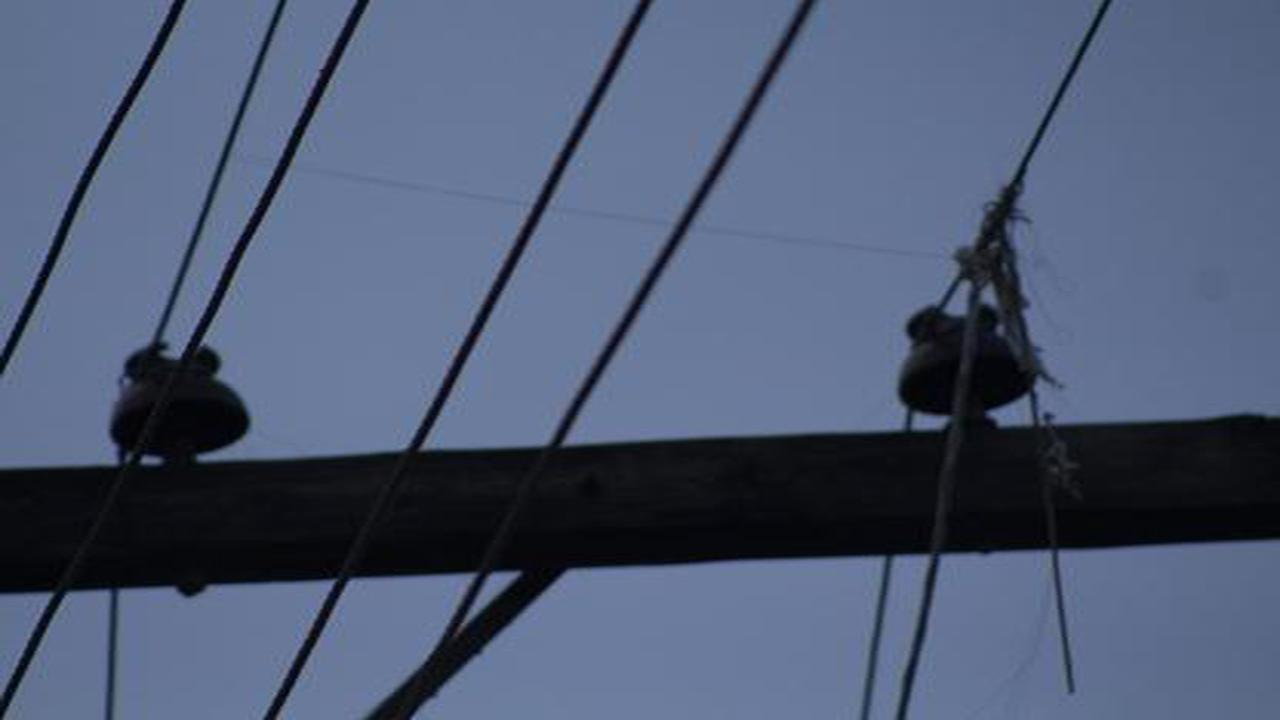insulator_pin: (105, 339, 260, 462), (890, 299, 1036, 420)
